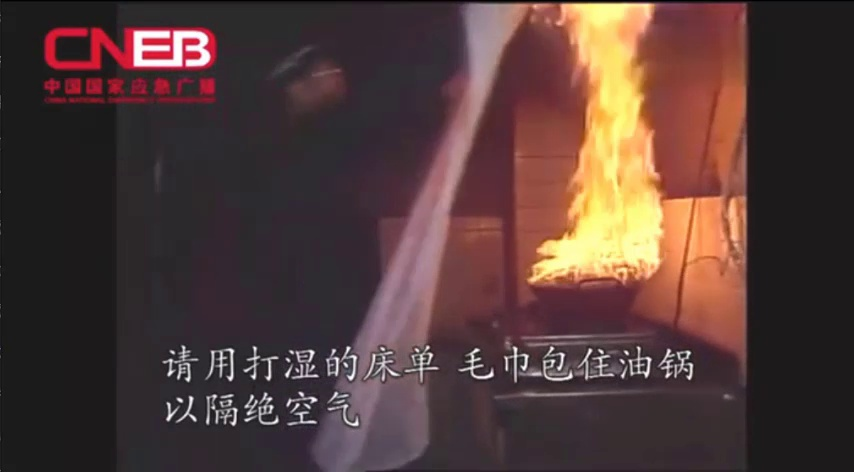fire: (513, 4, 681, 299)
